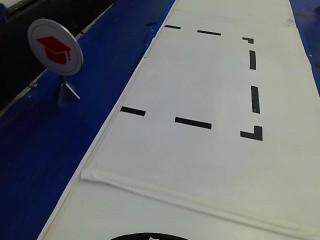school: (27, 24, 80, 78)
